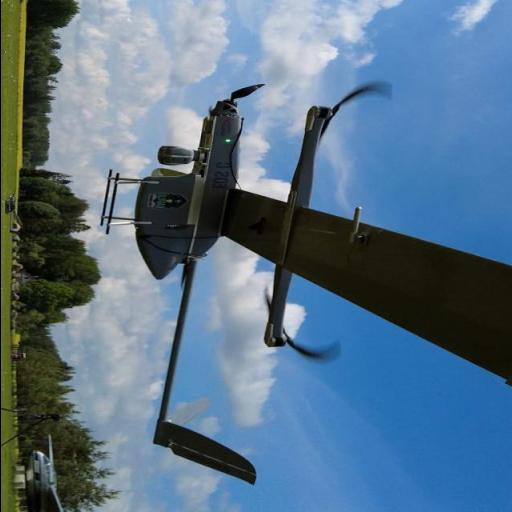uav: (94, 76, 512, 486)
